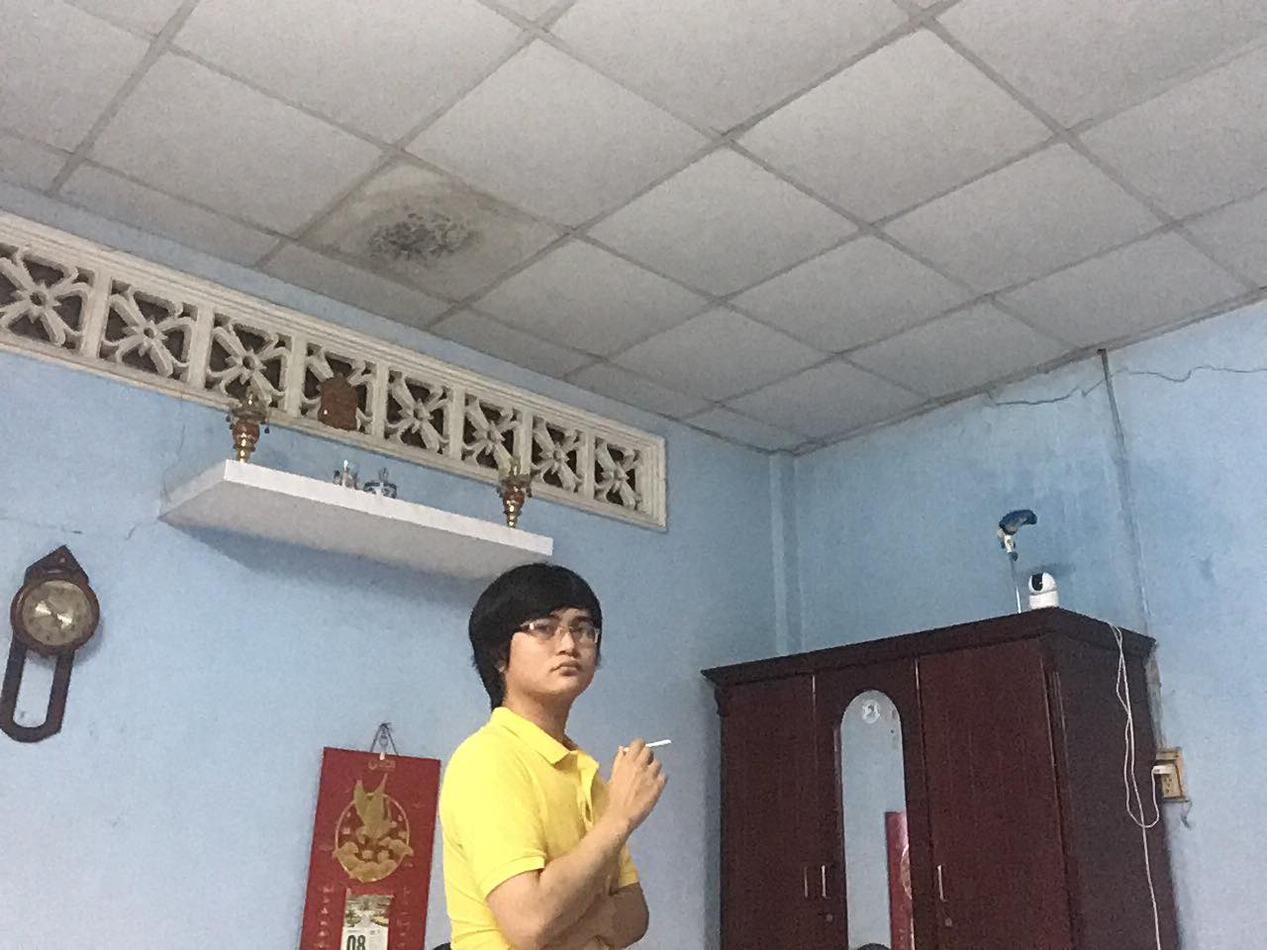cigarette: (646, 735, 676, 753)
person: (438, 560, 676, 950)
